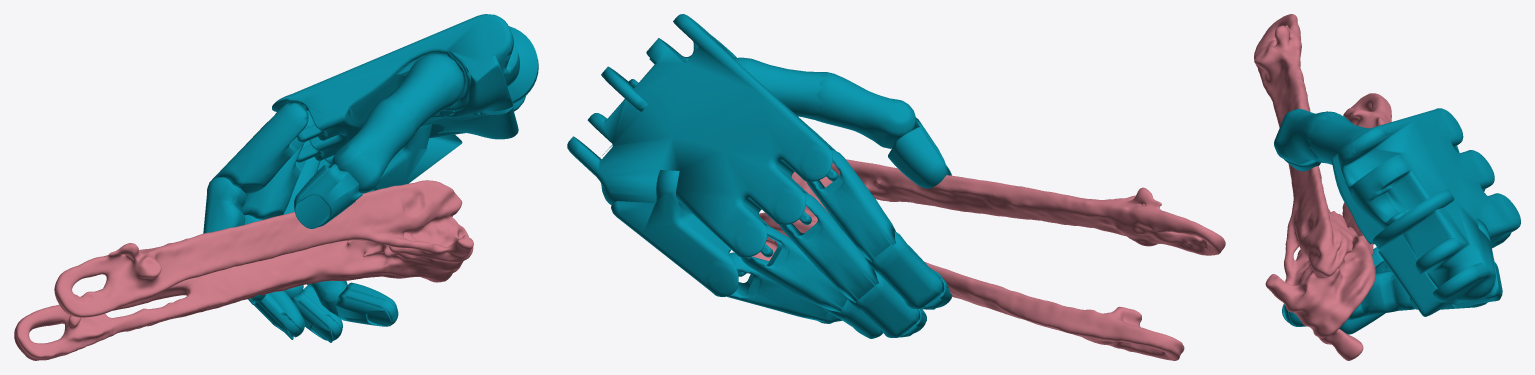
3 views of the same model, side by side, from view 1: azimuth 30°, elevation 25°; view 2: azimuth 150°, elevation 25°; view 3: azimuth 270°, elevation 25° (orthographic). The views are drawn at different scales.
Parts seen in each view (by area): view 1: world; view 2: world; view 3: world.
Boxes of the visible parts, x1,y1,x2,y2 form: world: [14, 14, 538, 360]; world: [567, 14, 1225, 360]; world: [1254, 14, 1520, 360].
Size of the model in its own units: 0.2873 by 0.1378 by 0.1136.
